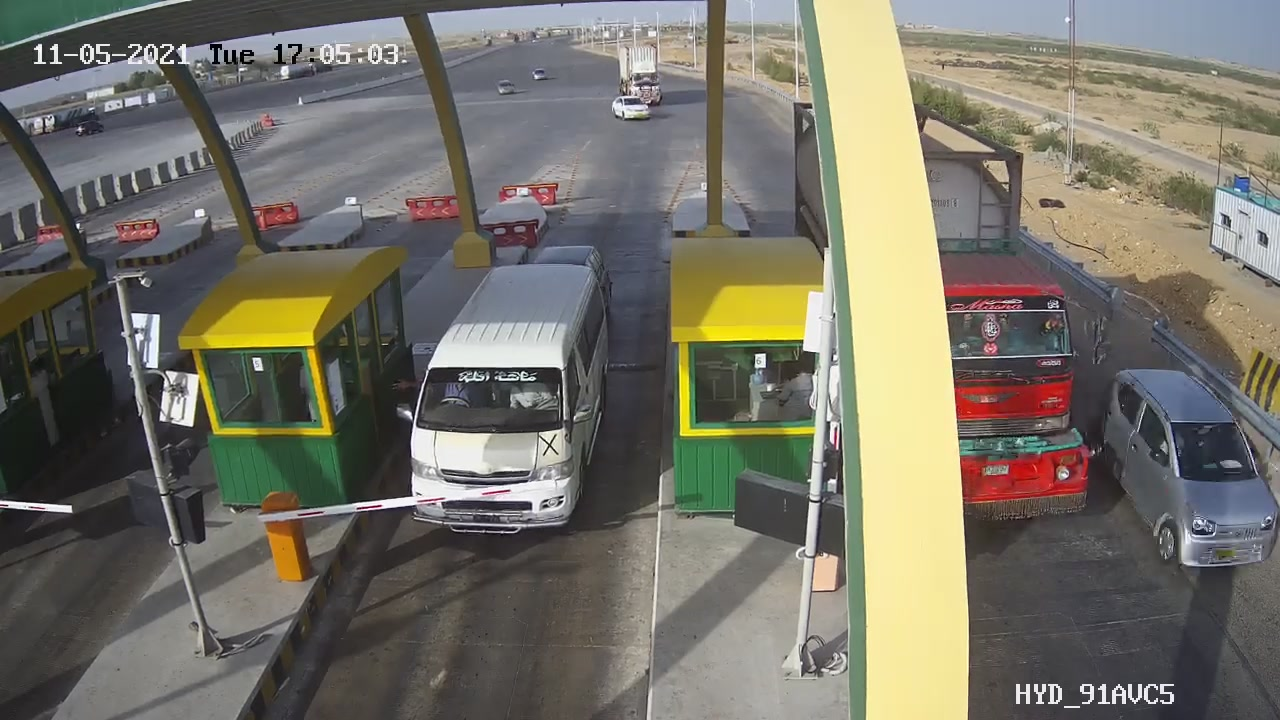F2: (377, 251, 634, 559)
